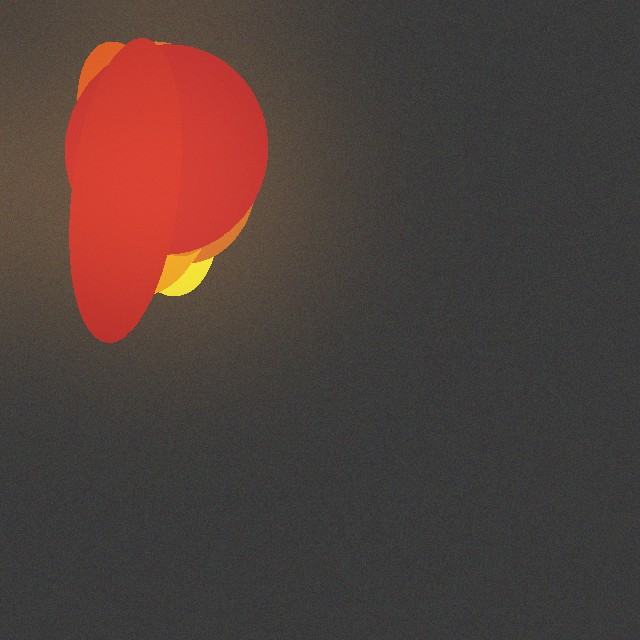fire: (102, 80, 220, 286)
